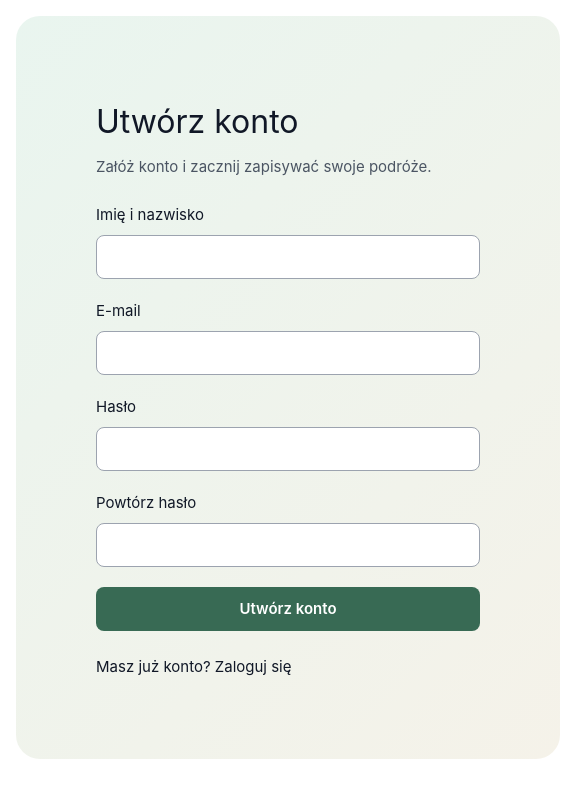
RegisterView › rejects invalid email before submitting
The image size is (577, 808).
Type "Ala Kowalska" into the field with id "name" at (288, 257), box top-left (96, 235), bottom-right (480, 279)
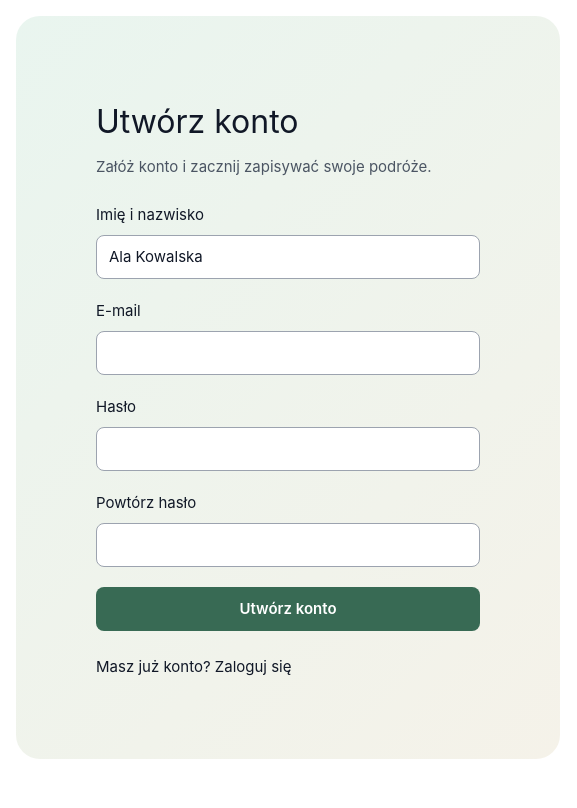
Type "ala@example.com" into the field with id "email" at (288, 353), box top-left (96, 331), bottom-right (480, 375)
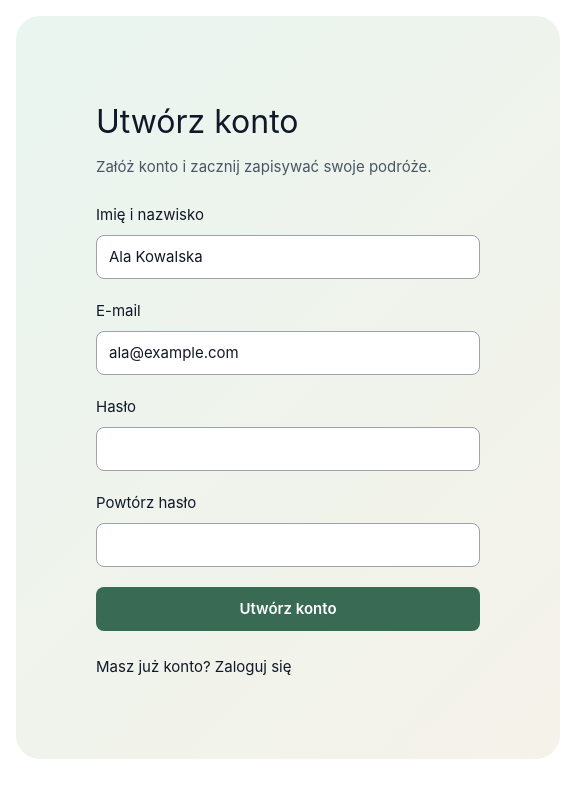
Type "Secret123!" into the password field labelled "Hasło" at (288, 449), box top-left (96, 427), bottom-right (480, 471)
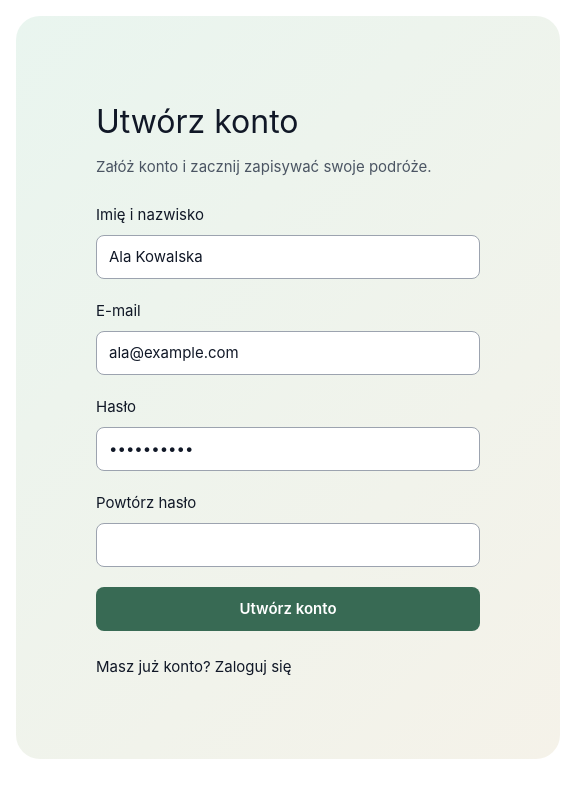
Type "Secret123!" into the password field labelled "Powtórz hasło" at (288, 545), box top-left (96, 523), bottom-right (480, 567)
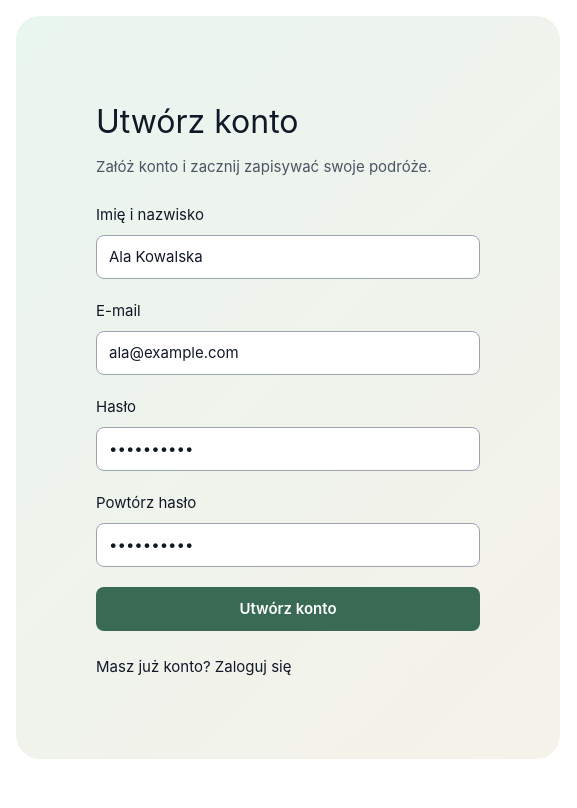
Replace the text in the field with id "email" with "not-an-email" at (288, 353), box top-left (96, 331), bottom-right (480, 375)
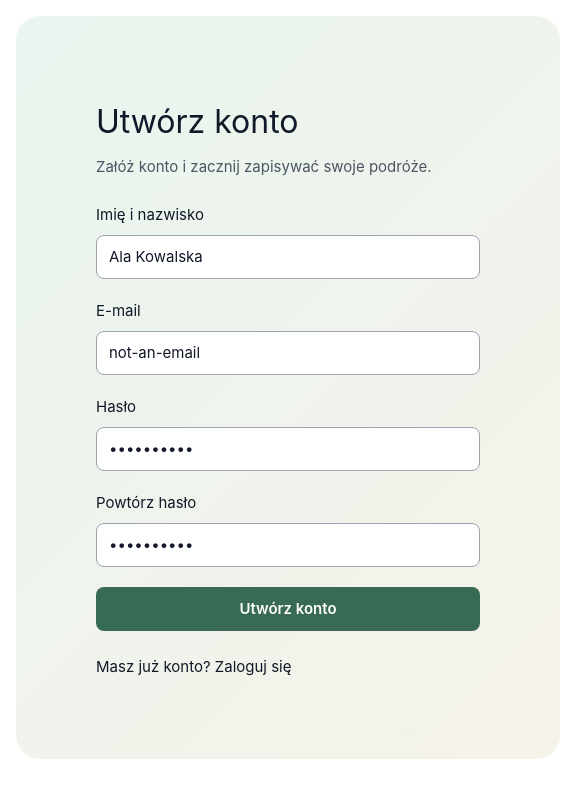
Submit the form, box top-left (96, 203), bottom-right (480, 631)
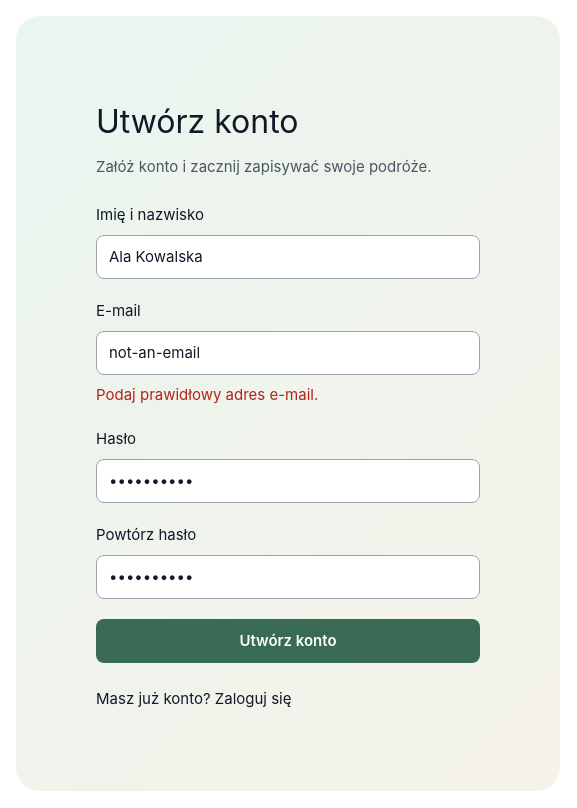
Result: the text "Podaj prawidłowy adres e-mail." is shown at top-left (96, 385), bottom-right (318, 404)
